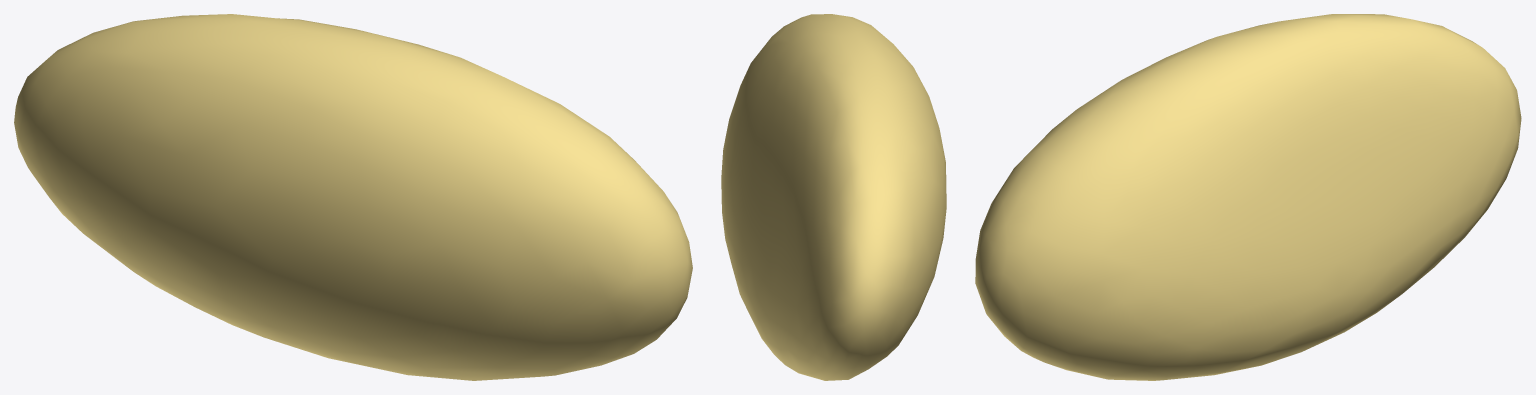
File: fma73507_mm3562m.glb
3 renders of one model, left to right at view 1: azimuth 30°, elevation 25°; view 2: azimuth 150°, elevation 25°; view 3: azimuth 270°, elevation 25°, orthographic. The views are drawn at different scales.
Visible parts, largest first — view 1: FMA73507_MM3562M; view 2: FMA73507_MM3562M; view 3: FMA73507_MM3562M.
Boxes of the visible parts, bbox=[...] form: FMA73507_MM3562M: bbox=[14, 14, 692, 380]; FMA73507_MM3562M: bbox=[721, 14, 946, 380]; FMA73507_MM3562M: bbox=[975, 14, 1521, 380].
Bounding box in the file's own units: 0.00225 × 0.00177 × 0.00294.
